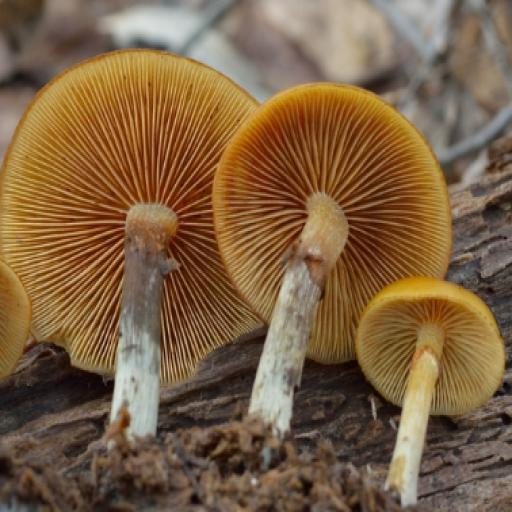mushroom: (5, 40, 509, 458)
